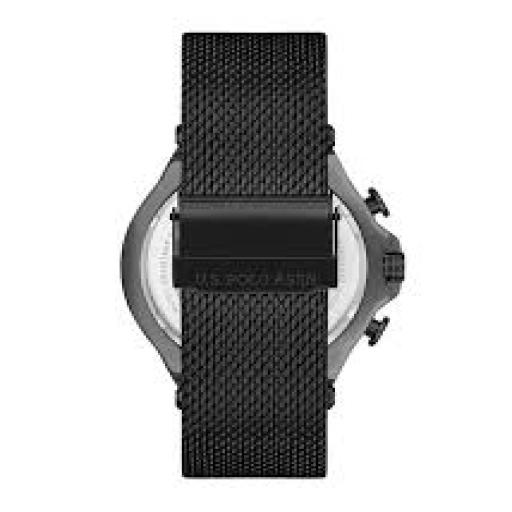KolSaati: (118, 20, 416, 493)
